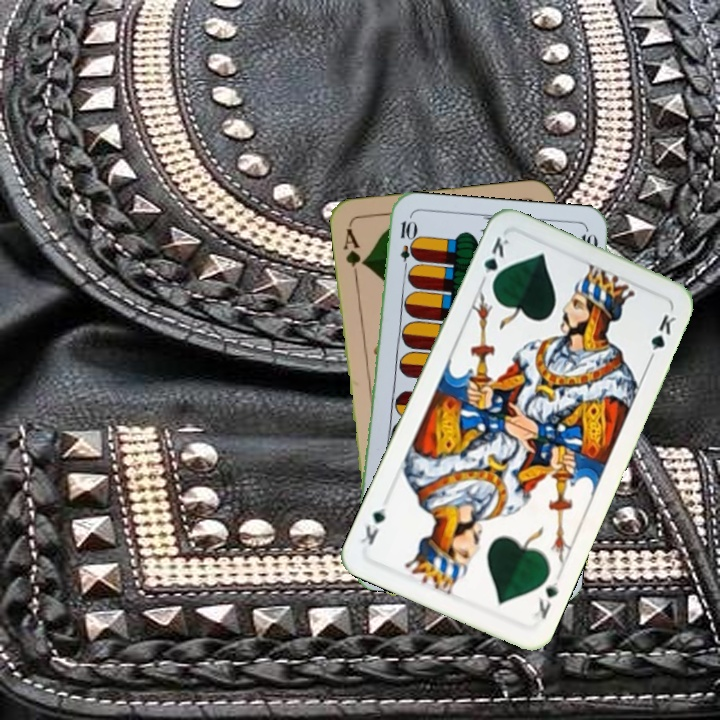E10: (396, 217, 416, 276)
GA: (339, 224, 368, 282)
GK: (476, 232, 513, 290), (529, 577, 561, 622)
